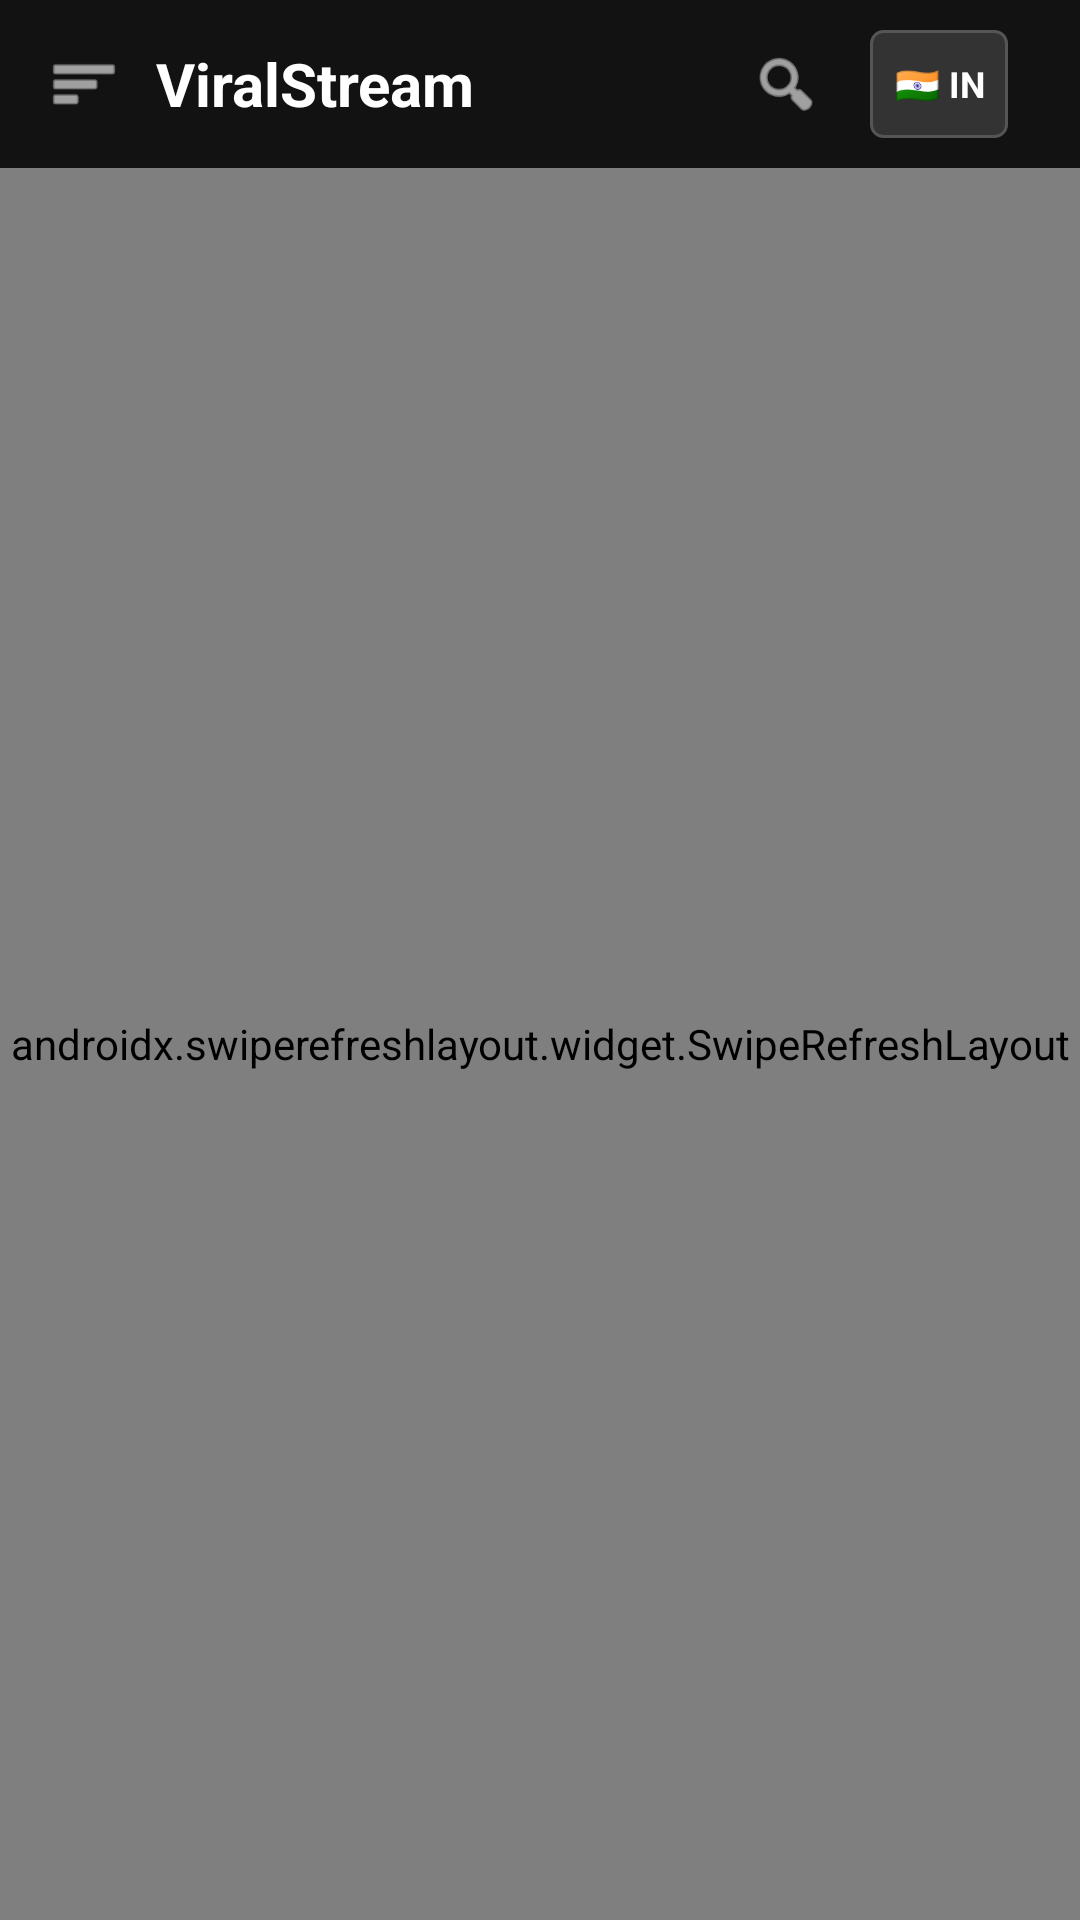

Icon bounding boxes for this 1080x1920 phone screenshot, format bbox(x1, y1, x2, y2):
search: bbox(759, 58, 813, 111)
sort by size: bbox(53, 64, 115, 105)
